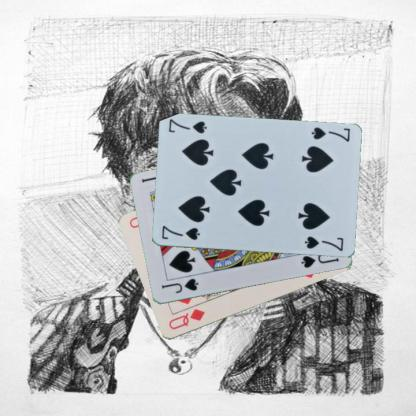7s: (158, 223, 201, 242), (308, 125, 352, 143)
Js: (158, 276, 200, 294)
Qd: (166, 306, 206, 331)
